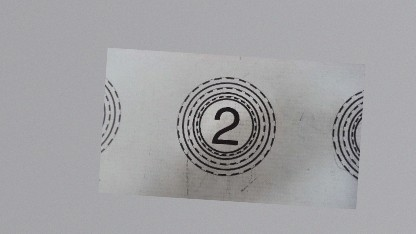2r: (170, 71, 280, 181)
